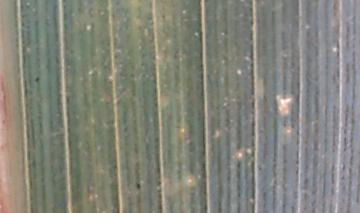tarspot: (34, 76, 41, 83), (135, 182, 142, 189)
